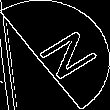N_SW: (18, 24, 92, 86)
